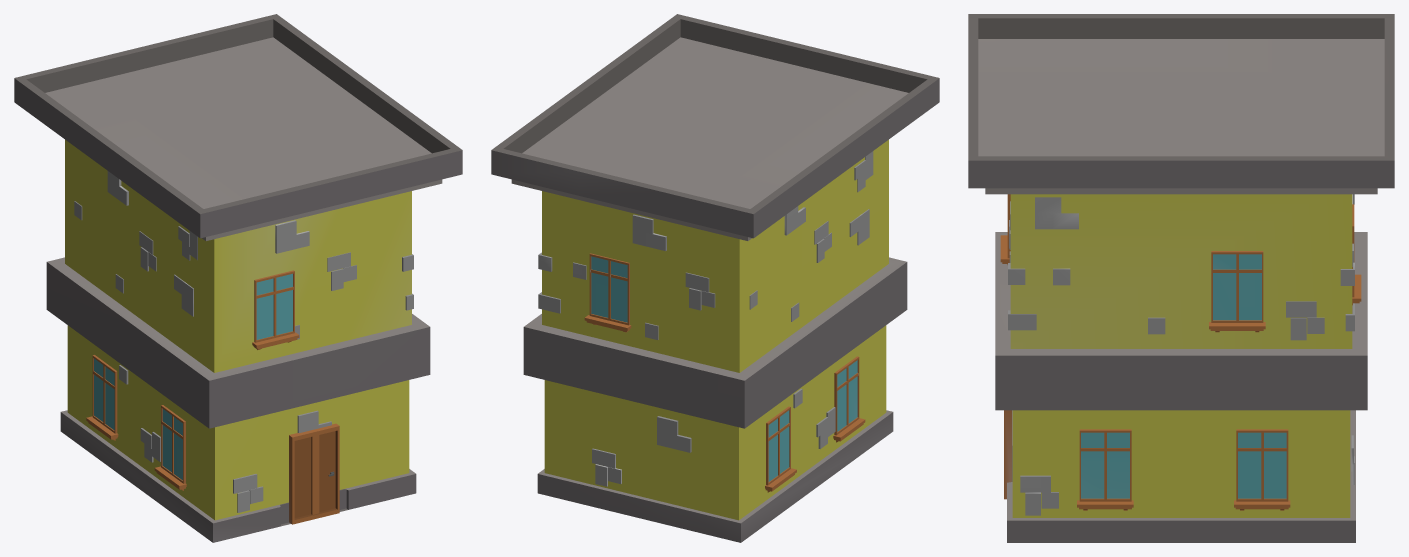
Rendered from Predio.fbx.
3 renders of one model, left to right at view 1: azimuth 30°, elevation 25°; view 2: azimuth 150°, elevation 25°; view 3: azimuth 270°, elevation 25°, orthographic. The views are drawn at different scales.
Parts seen in each view (by area): view 1: Predio; view 2: Predio; view 3: Predio.
Boxes of the visible parts, x1,y1,x2,y2 form: Predio: (14,14,462,542); Predio: (491,14,939,542); Predio: (968,14,1394,542).
Size of the model in its own units: 3948 by 5005 by 4847.
